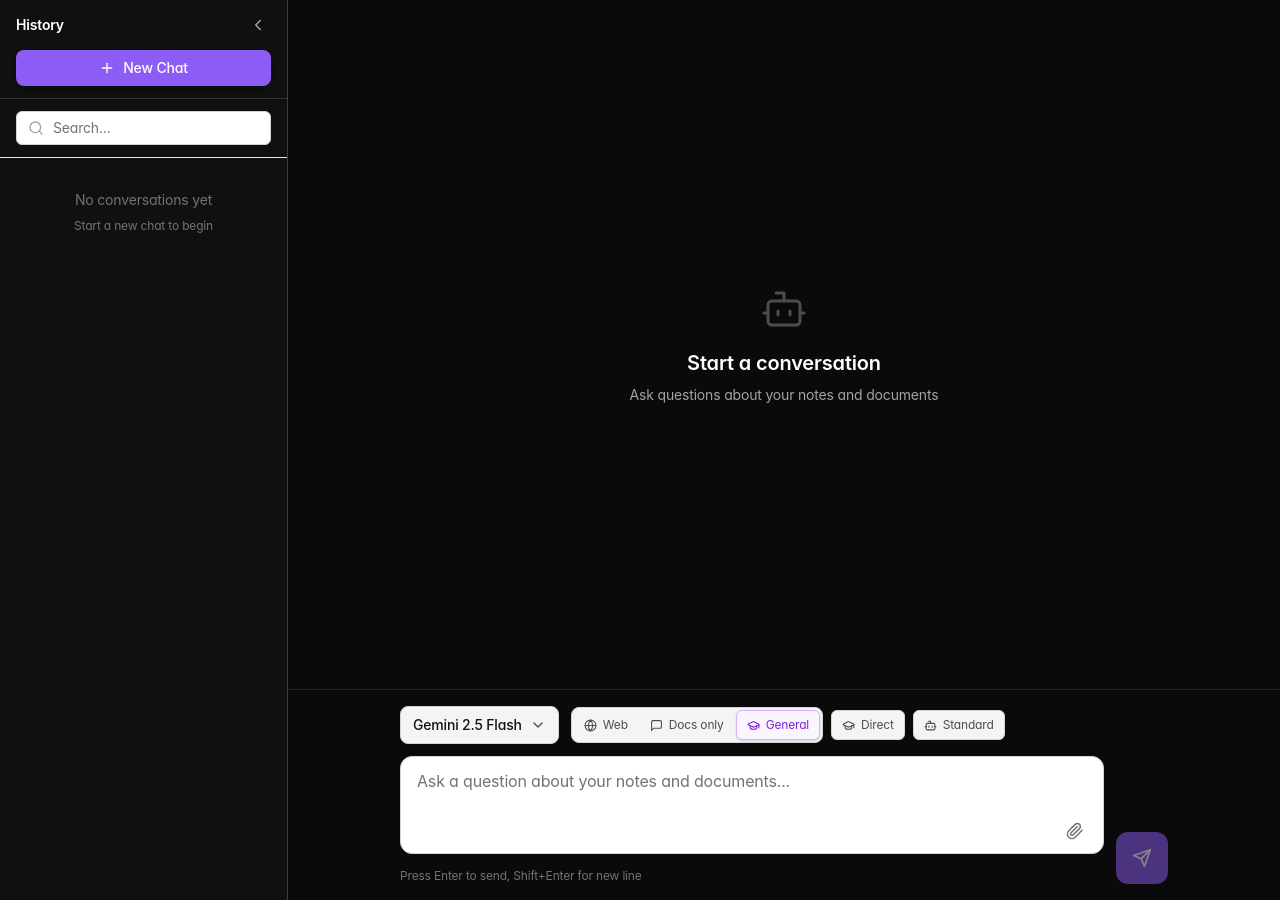
Test: ChatPage - New Features › Loading States Feature › should display loading status messages during streaming
The width and height of the screenshot is (1280, 900).
# Find and fill the input
Type "What is AI?" into the text box with placeholder "Ask a question about your notes and documents..." at coordinates (752, 805), box [400, 756, 1104, 854]
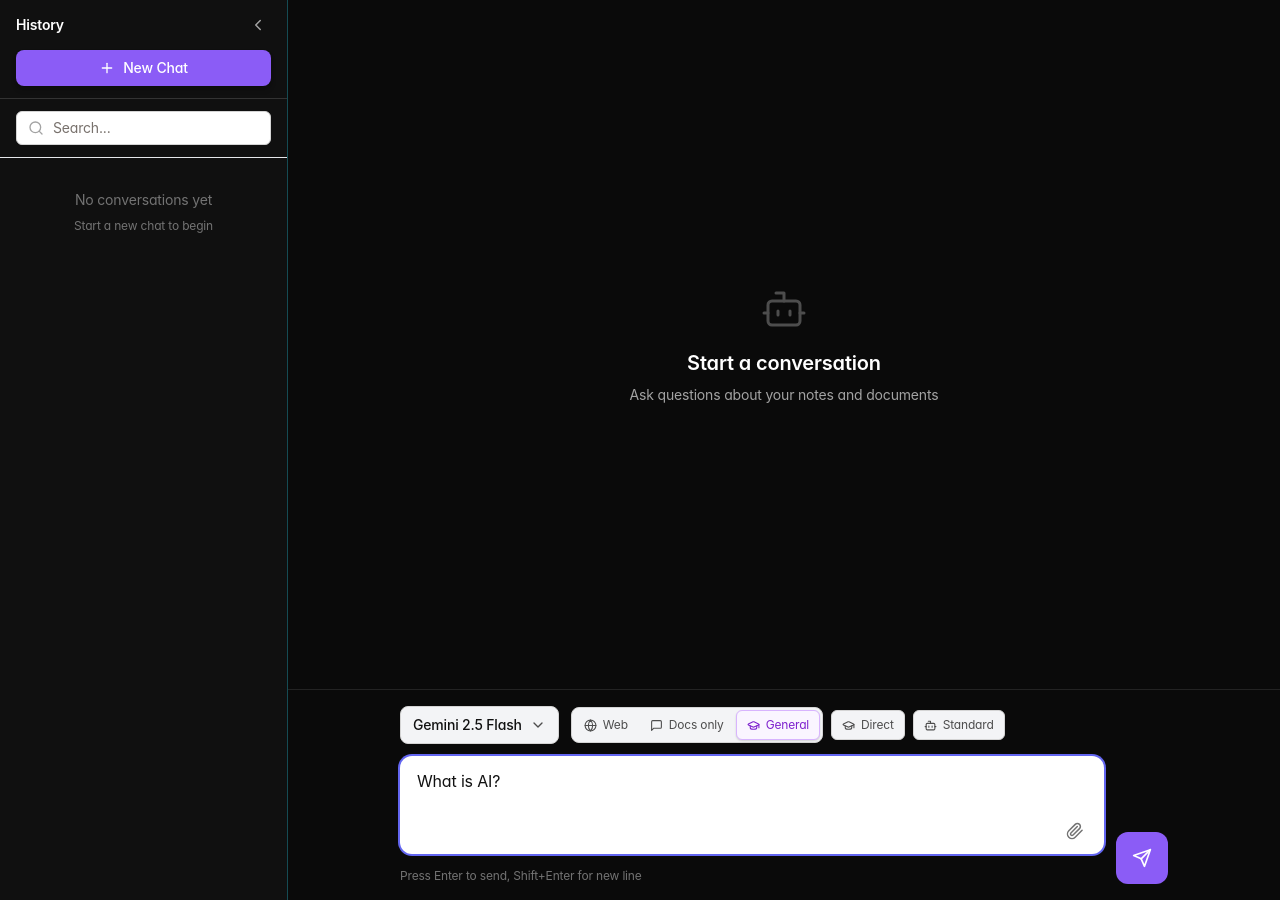
Press Enter
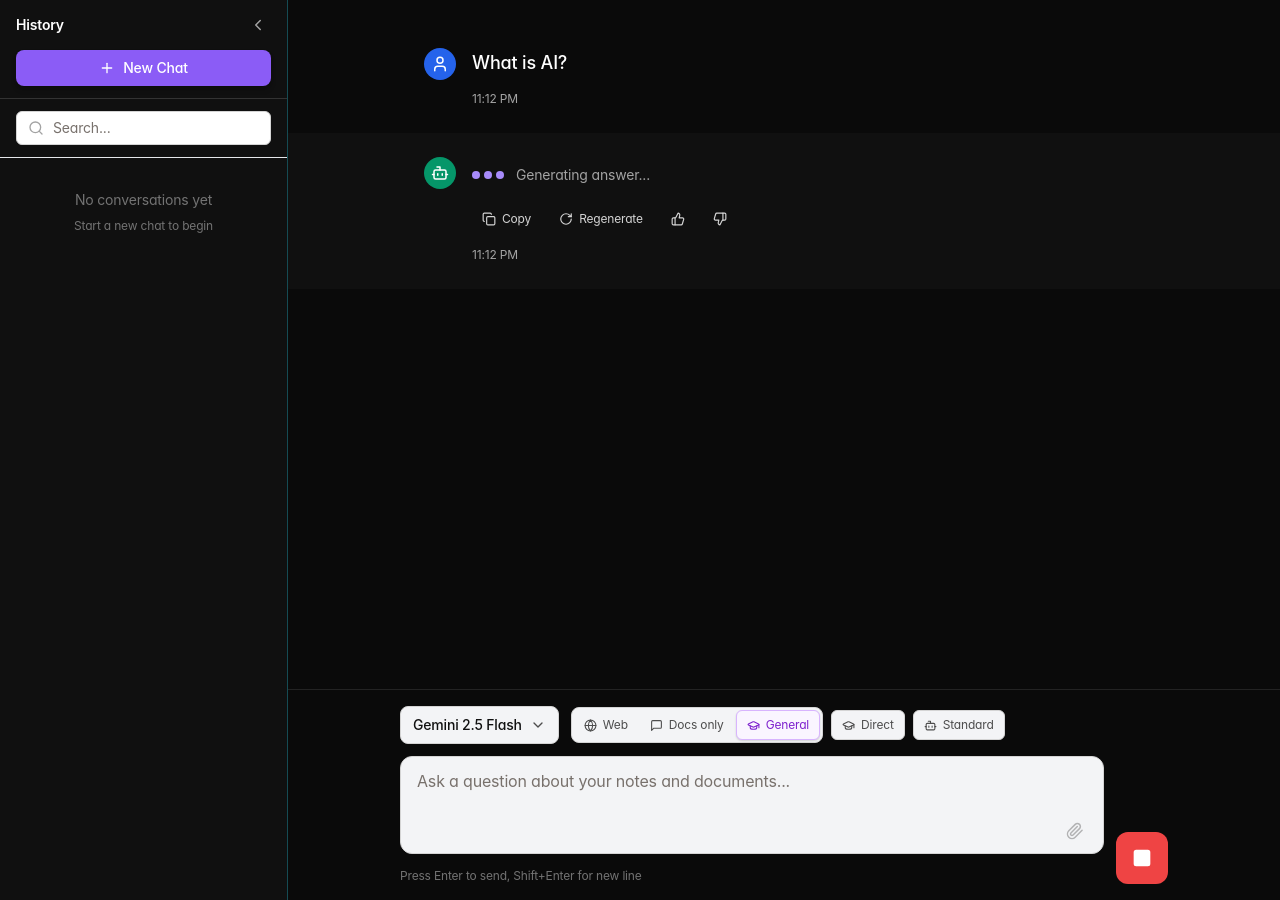
Expected: the text "Generating answer..." is shown, [516, 165, 650, 185]
